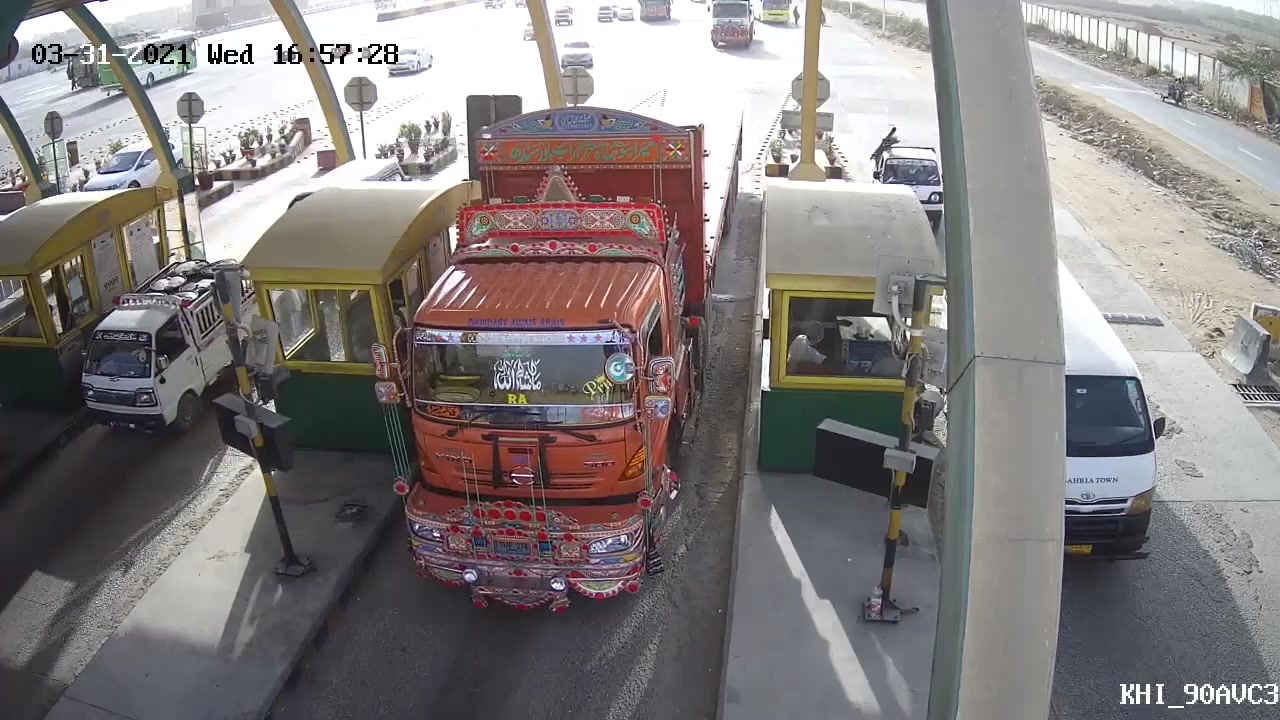F6: (379, 100, 752, 605)
